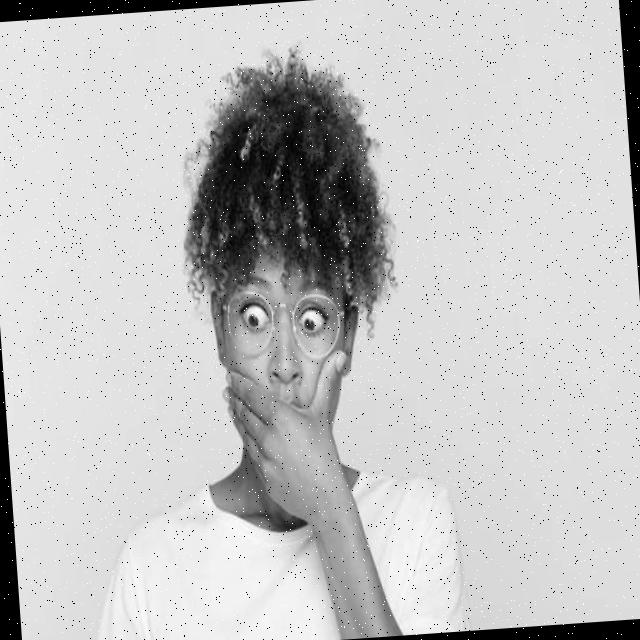Surprised: (214, 227, 358, 457)
